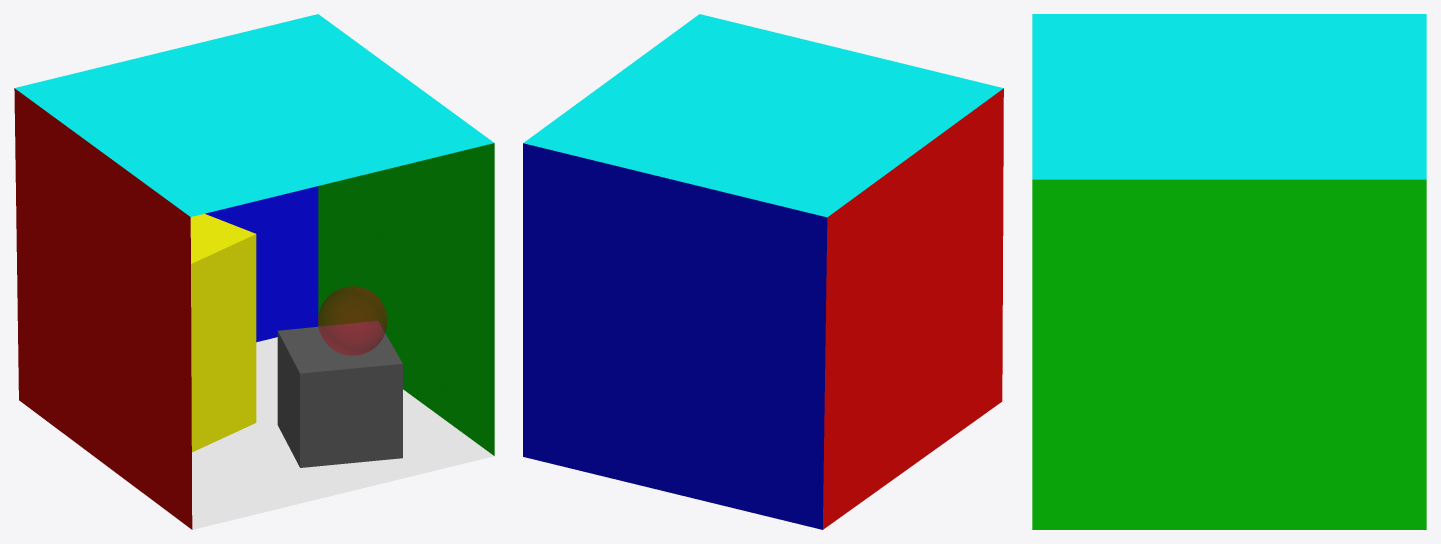
The model's file is cornell_pbr.glb.
The picture shows the model from 3 angles, left to right: view 1: azimuth 30°, elevation 25°; view 2: azimuth 150°, elevation 25°; view 3: azimuth 270°, elevation 25°; orthographic projection. The views are drawn at different scales.
Parts seen in each view (by area): view 1: cornell.001, Sphere; view 2: cornell.001; view 3: cornell.001.
Boxes of the visible parts, left/top/right/bottom form: cornell.001: left=14, top=14, right=494, bottom=529; Sphere: left=318, top=286, right=386, bottom=355; cornell.001: left=523, top=14, right=1003, bottom=529; cornell.001: left=1032, top=14, right=1426, bottom=529.
Size of the model in its own units: 2.02 by 1.99 by 2.03.
